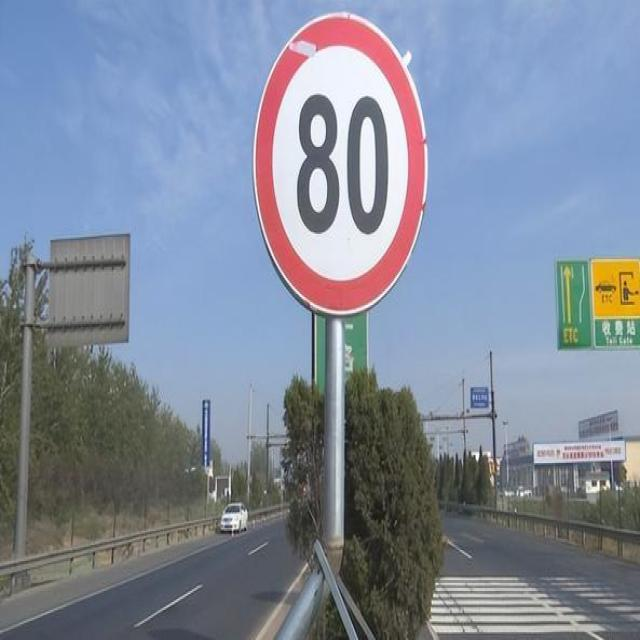speed limit 80: (253, 6, 429, 319)
